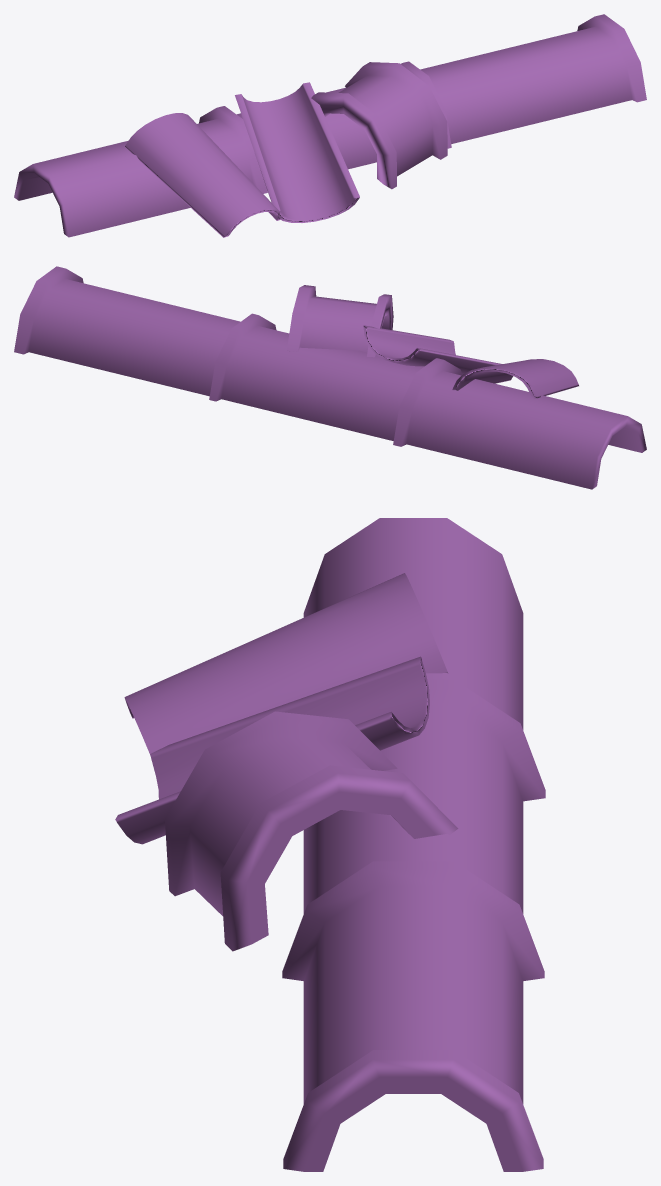
Rendered from Roof_Tile_Pile_03_Lod0.fbx.
The picture shows the model from 3 angles, top to bottom: view 1: azimuth 30°, elevation 25°; view 2: azimuth 150°, elevation 25°; view 3: azimuth 270°, elevation 25°; orthographic projection. The views are drawn at different scales.
Parts seen in each view (by area): view 1: Roof_Tile_Pile_03_Lod0; view 2: Roof_Tile_Pile_03_Lod0; view 3: Roof_Tile_Pile_03_Lod0.
Boxes of the visible parts, x1,y1,x2,y2 form: Roof_Tile_Pile_03_Lod0: (14, 14, 646, 237); Roof_Tile_Pile_03_Lod0: (14, 266, 646, 489); Roof_Tile_Pile_03_Lod0: (115, 518, 545, 1171).
Size of the model in its own units: 300 by 46.78 by 97.47.
